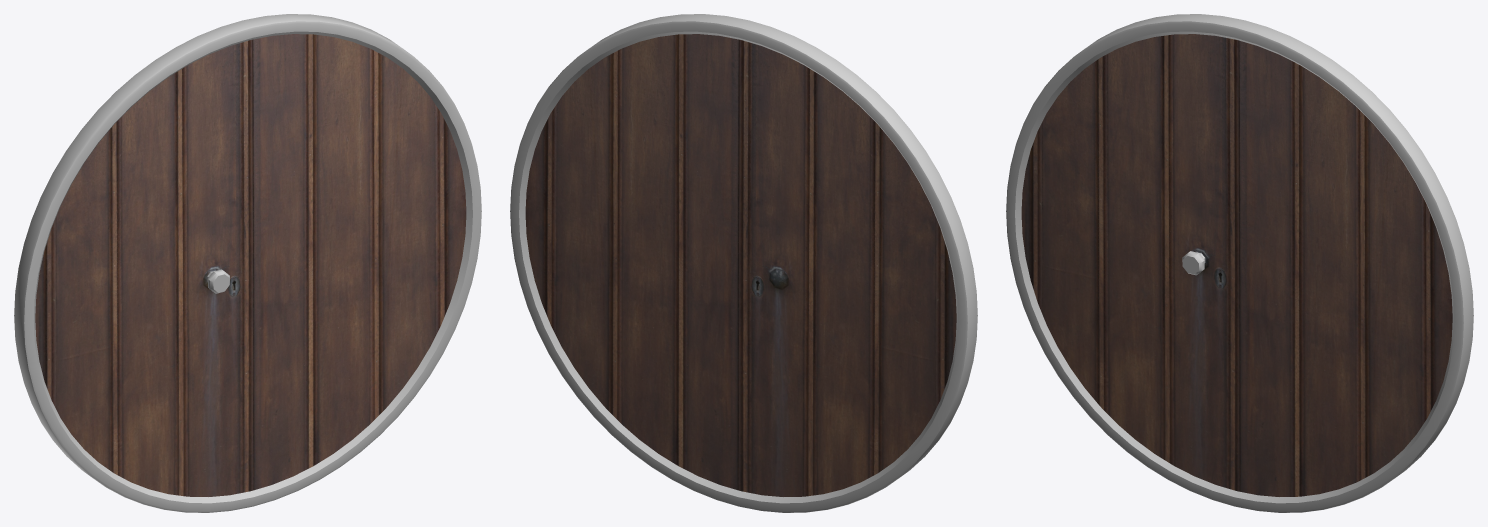
File: door.fbx
The picture shows the model from 3 angles, left to right: view 1: azimuth 30°, elevation 25°; view 2: azimuth 150°, elevation 25°; view 3: azimuth 330°, elevation 25°; orthographic projection.
Parts seen in each view (by area): view 1: Mesh; view 2: Mesh; view 3: Mesh.
Part boxes in pixels (<box>): Mesh: <box>14,14,481,512</box>; Mesh: <box>510,14,977,512</box>; Mesh: <box>1006,14,1473,512</box>.
Bounding box in the file's own units: 460 × 460 × 29.06.
